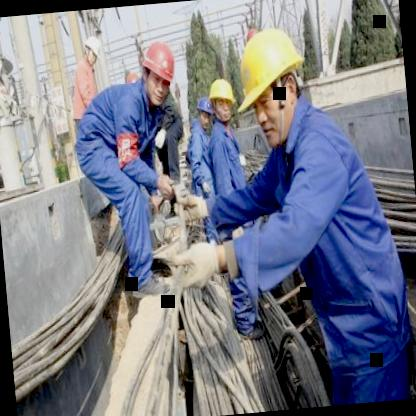helmet: (235, 19, 317, 145), (139, 37, 181, 108), (206, 76, 239, 128), (82, 30, 106, 71), (193, 92, 216, 132)
